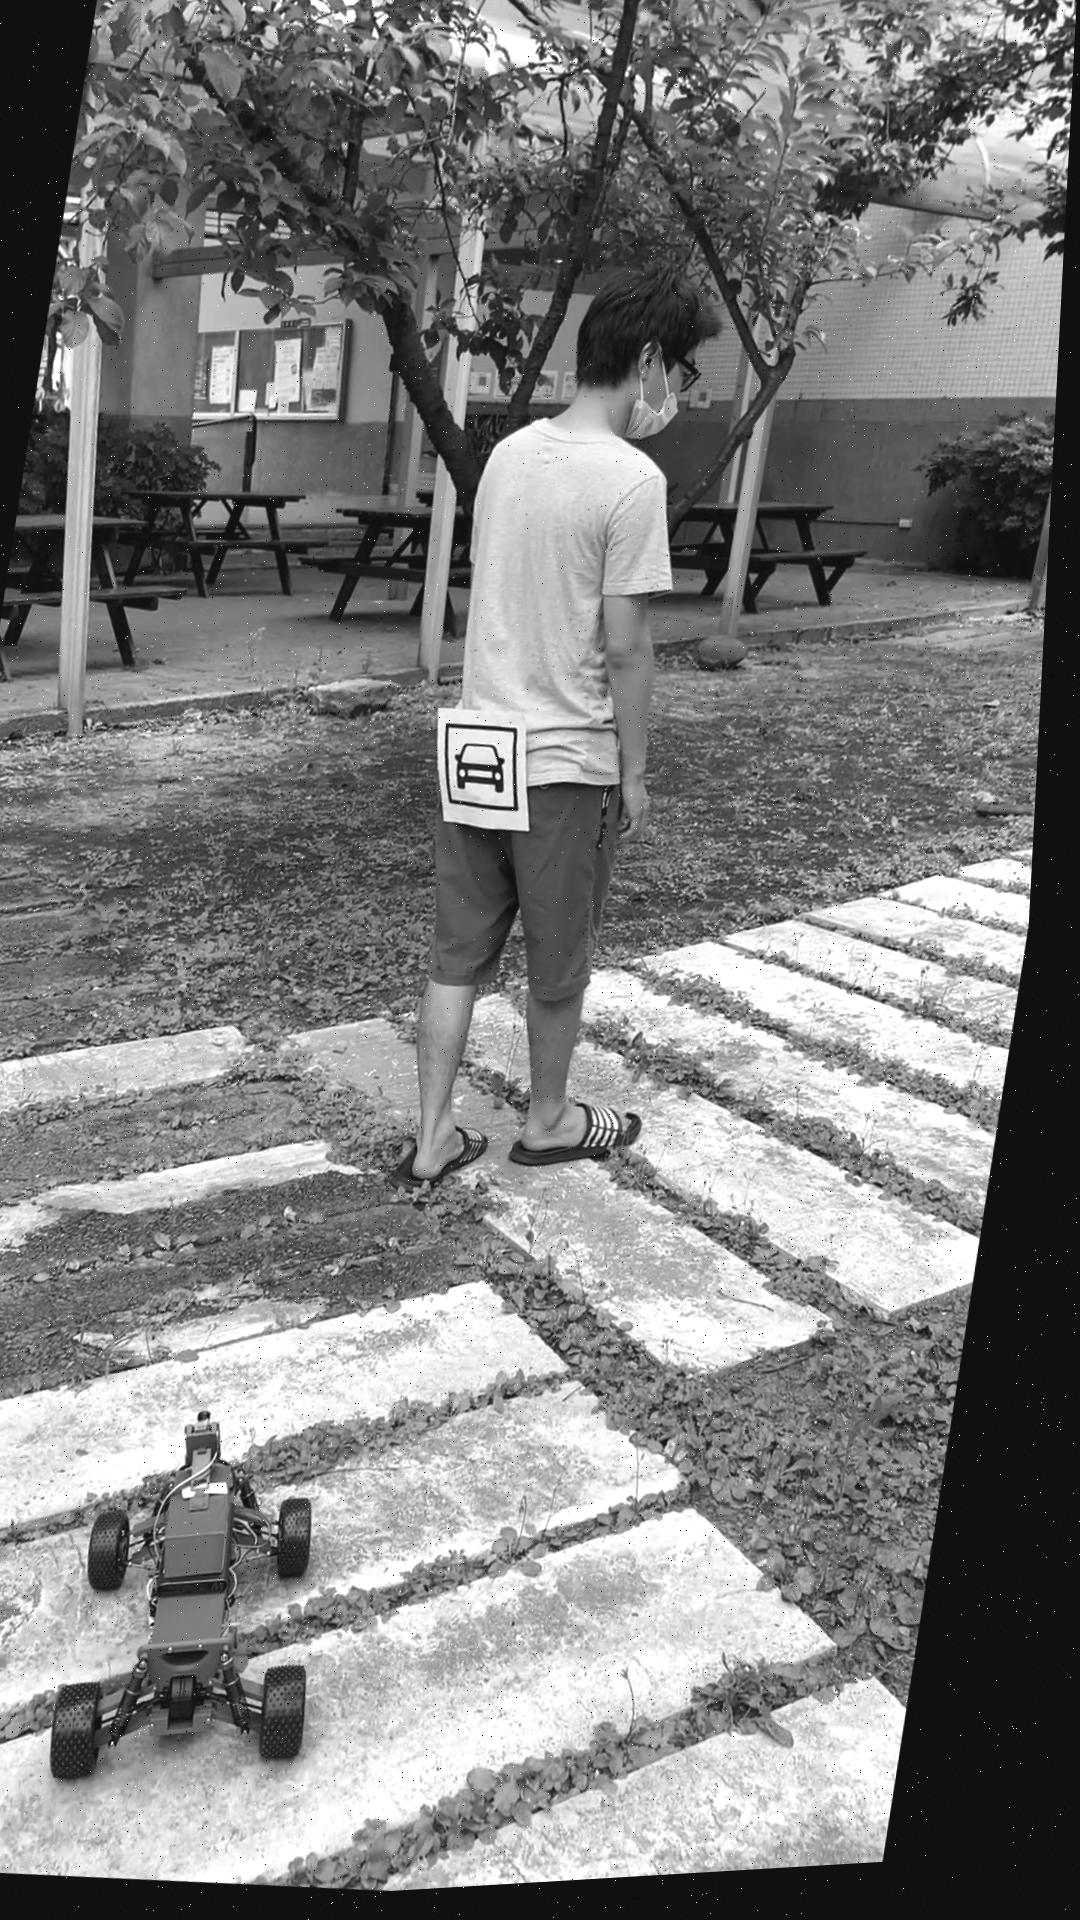car_img: (440, 724, 542, 823)
